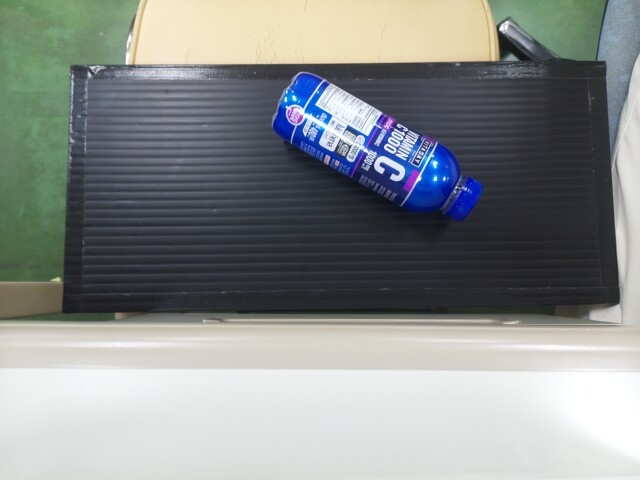plastic_bottle: (322, 87, 479, 222)
